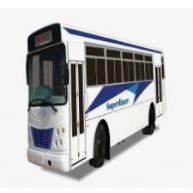bus: (25, 22, 170, 176)
